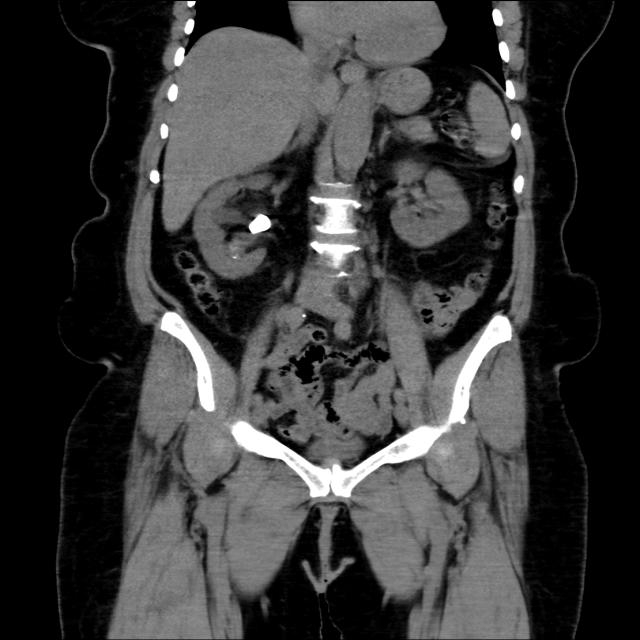kidneystone: (249, 214, 272, 234), (233, 257, 237, 259)
